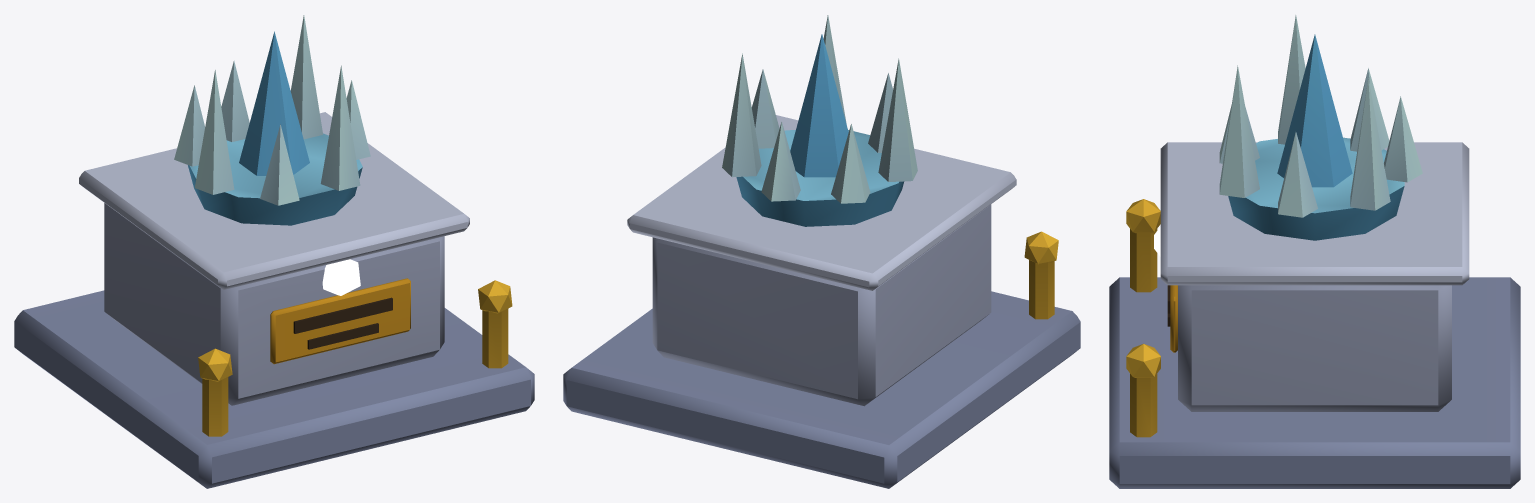
File: b_trophy_frost.glb
3 views of the same model, side by side, from view 1: azimuth 30°, elevation 25°; view 2: azimuth 150°, elevation 25°; view 3: azimuth 270°, elevation 25° (orthographic). The views are drawn at different scales.
Parts seen in each view (by area): view 1: body, pulse_gem_glow; view 2: body; view 3: body.
Boxes of the visible parts, x1=… form: body: x1=14, y1=15, x2=534, y2=488; pulse_gem_glow: x1=322, y1=259, x2=360, y2=295; body: x1=563, y1=15, x2=1080, y2=488; body: x1=1109, y1=15, x2=1520, y2=488.
Size of the model in its own units: 2.4 by 2.4 by 2.4.
